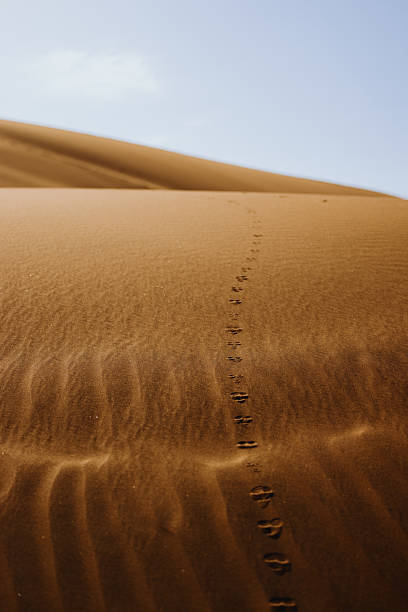animal_foot_print: (263, 552, 290, 574), (257, 517, 283, 538), (249, 485, 273, 507), (269, 597, 297, 611), (230, 391, 248, 403), (236, 440, 257, 448), (234, 415, 252, 424), (226, 325, 242, 334), (229, 374, 243, 384), (246, 462, 260, 472), (227, 341, 240, 349), (227, 356, 241, 362), (229, 298, 241, 304), (231, 286, 242, 292), (236, 275, 247, 281), (241, 267, 251, 273), (253, 234, 262, 237), (250, 249, 259, 252)
